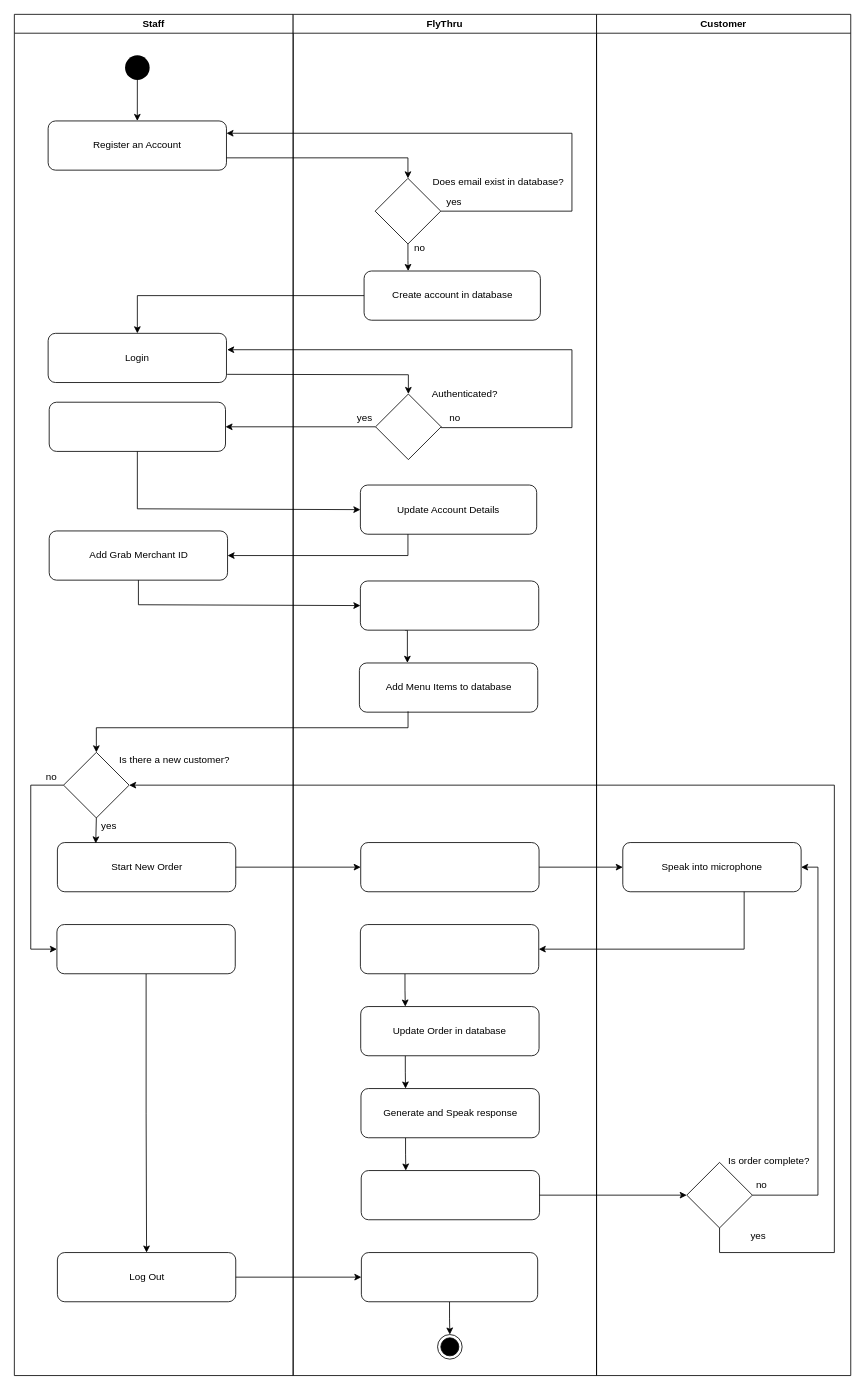
Image size: 865x1390. Some labels were removed from this diagram. Here are the shapes that lost their labels. From the top down, the centre of each, then its label:
At (137,426): "Update Client Name or Password".
At (449,605): "Retrieve Menu Items from Grab API".
At (449,867): "Create Order Entry in database".
At (145,949): "Stop Order".
At (449,949): "Receive and Process Voice Input".
At (450,1195): "Update display of conversation transcript and list of ordered items".
At (449,1277): "Clear Session and Log User Out".
